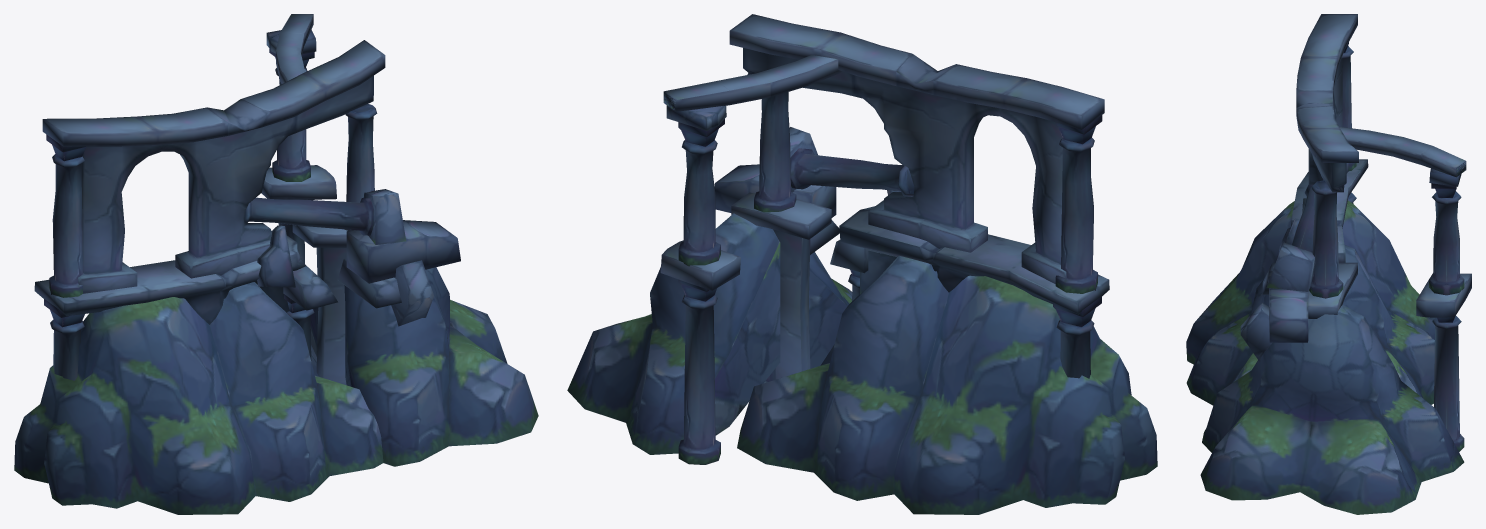
File: mesh_Iz_dun_stone_12.FBX
3 renders of one model, left to right at view 1: azimuth 30°, elevation 25°; view 2: azimuth 150°, elevation 25°; view 3: azimuth 270°, elevation 25°, orthographic. The views are drawn at different scales.
Visible parts, largest first — view 1: mesh_Iz_dun_stone_12; view 2: mesh_Iz_dun_stone_12; view 3: mesh_Iz_dun_stone_12.
Boxes of the visible parts, bbox=[...] form: mesh_Iz_dun_stone_12: bbox=[14, 14, 538, 514]; mesh_Iz_dun_stone_12: bbox=[567, 14, 1157, 514]; mesh_Iz_dun_stone_12: bbox=[1186, 14, 1471, 514].
Bounding box in the file's own units: 17.91 × 12.35 × 10.38.
